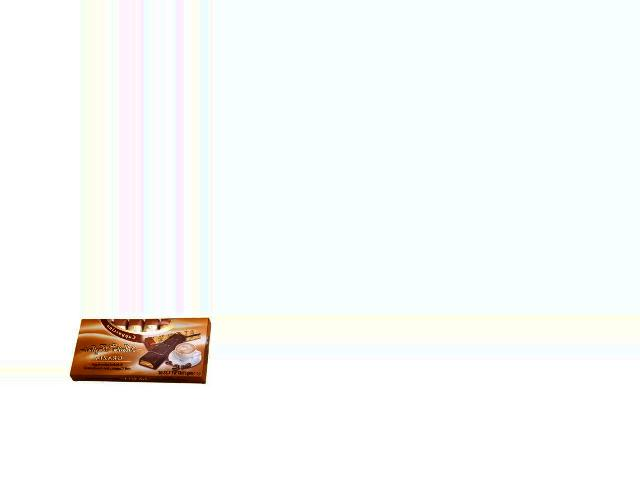chocolate: (67, 316, 211, 383)
